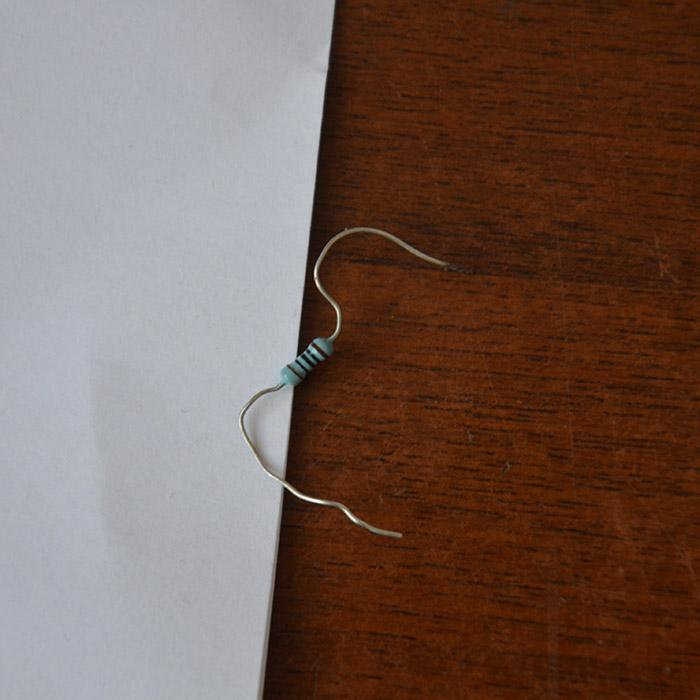resistor: (277, 335, 336, 388)
